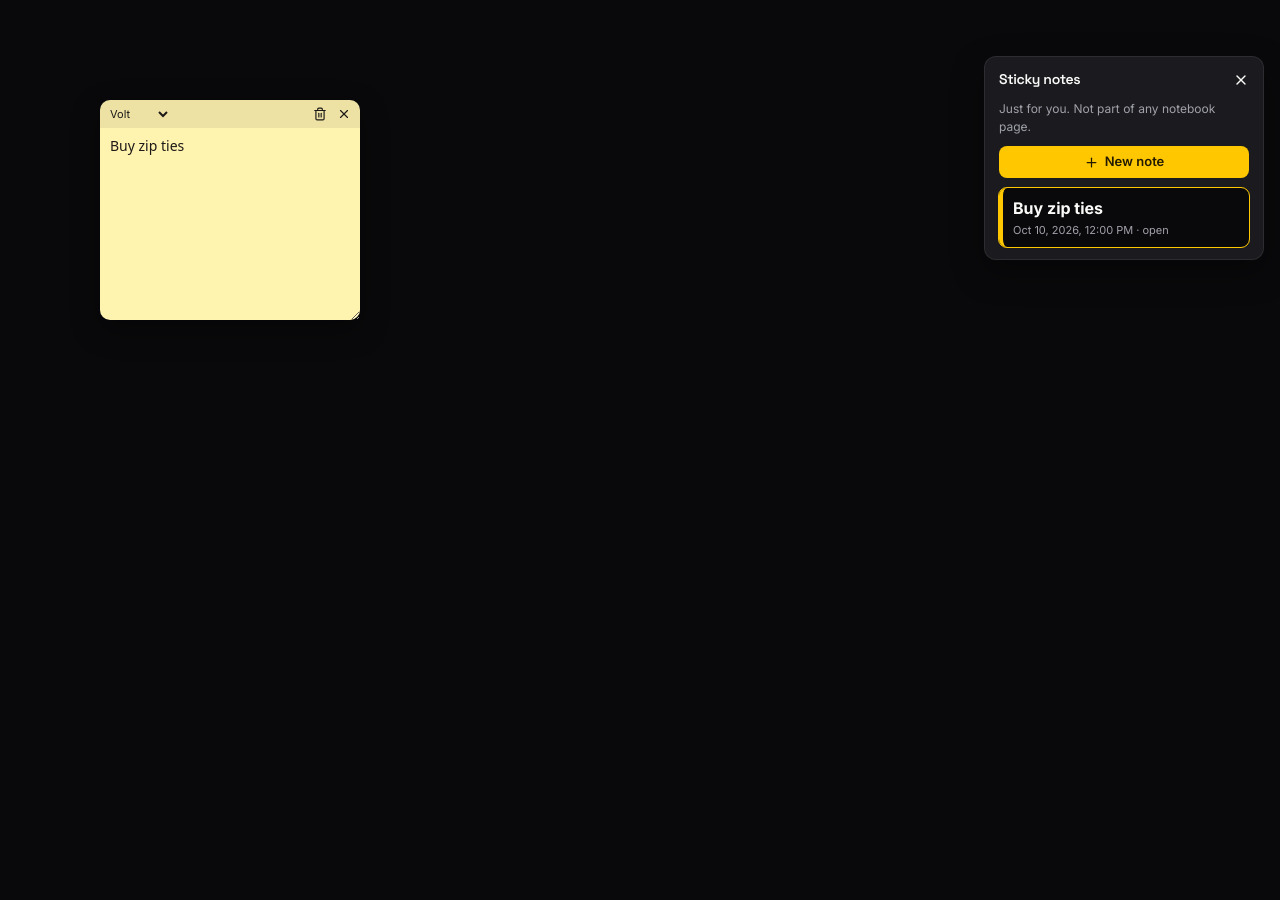
Test: Sticky notes › saves typing after a pause and shows honest save states
Replace the text in the text box named "Note text" with "Buy zip ties and bolts". click: (230, 224)
box: [100,128,360,320]
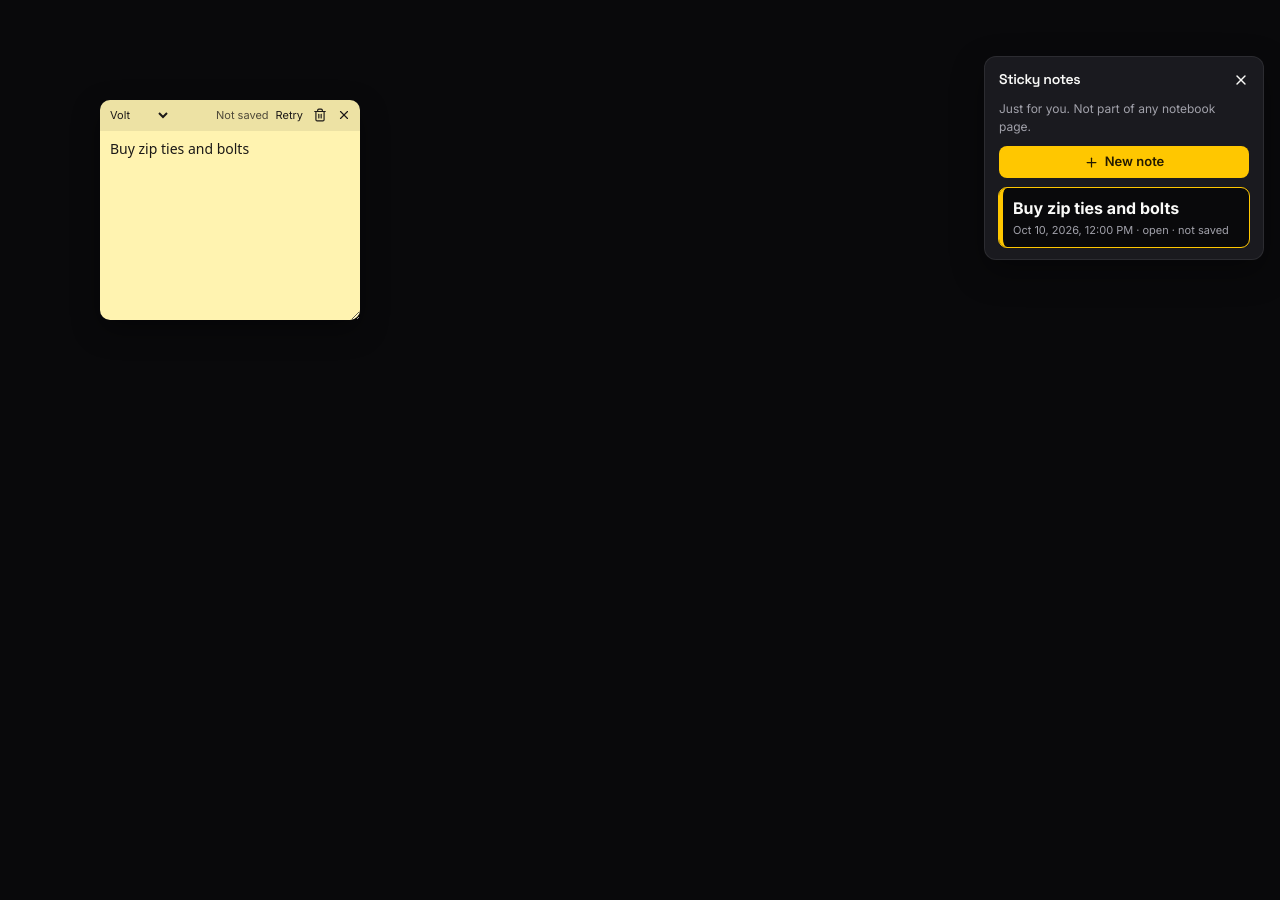
Now the text "Not saved" is shown, box [216,107,268,124]
Click the button "Retry". click: (289, 115)
box: [273,104,306,126]
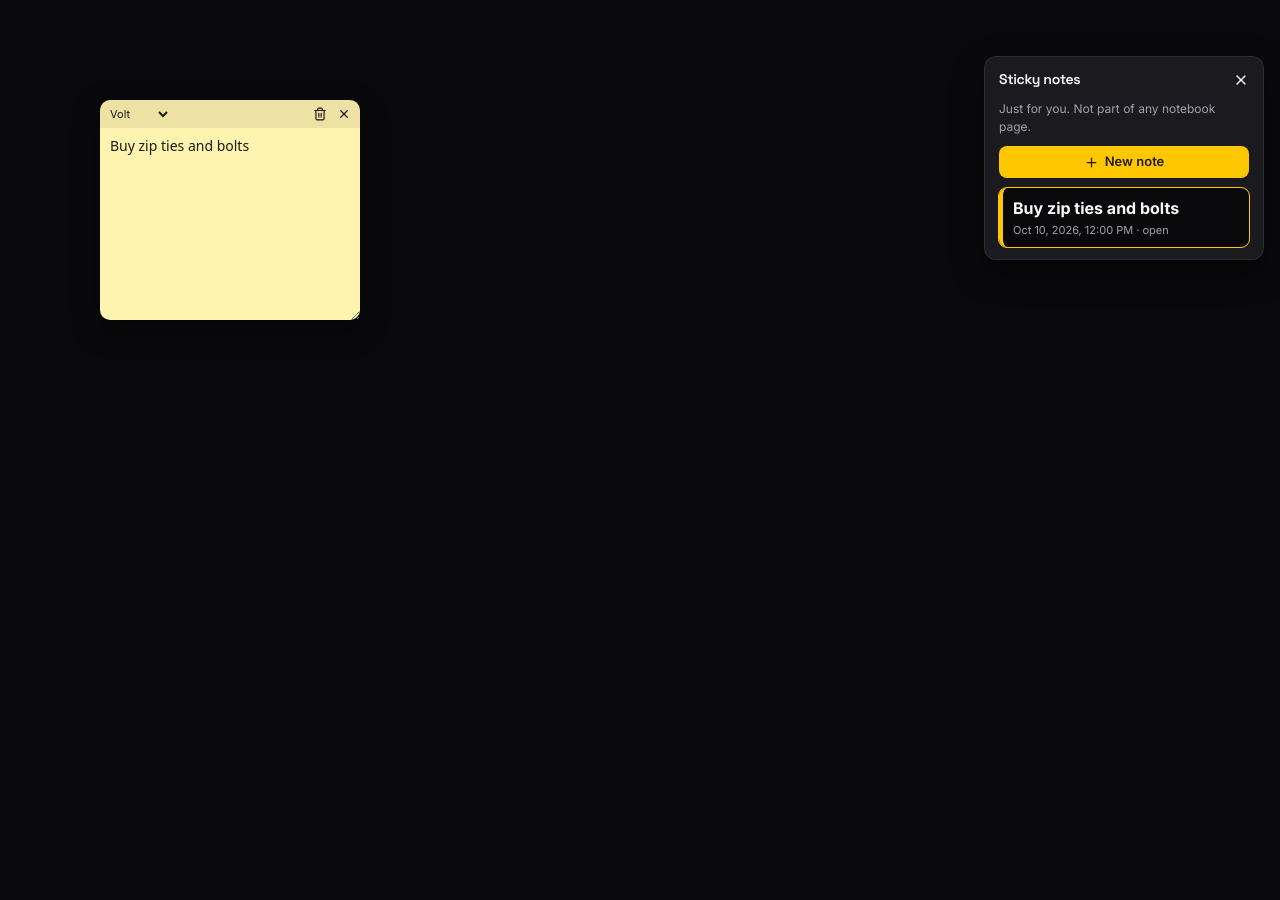
Now the button "not saved" is gone
